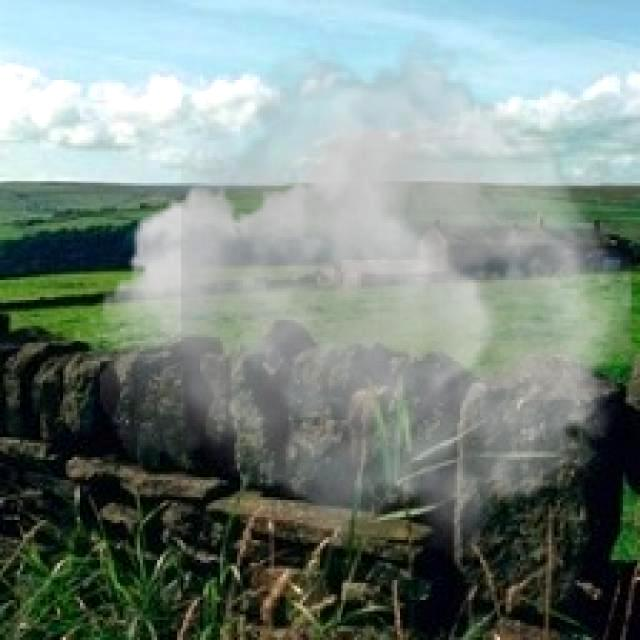Smoke: (89, 31, 632, 560)
